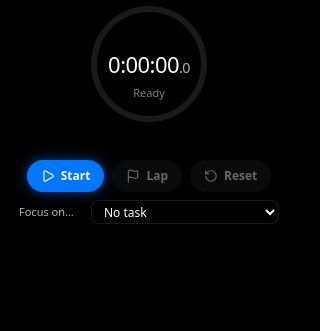
Test: StopwatchTool › Lap adds a row with its split and total, newest first
Click the button "Start" at (66, 176), box left=27, top=160, right=104, bottom=192
Wait 1500 ms
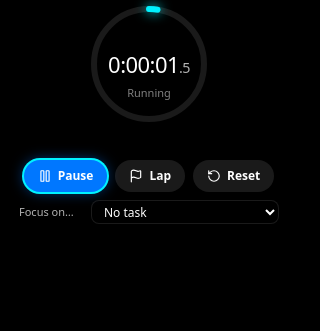
Click the button "Lap" at (150, 176), box left=115, top=160, right=185, bottom=192
Wait 2000 ms
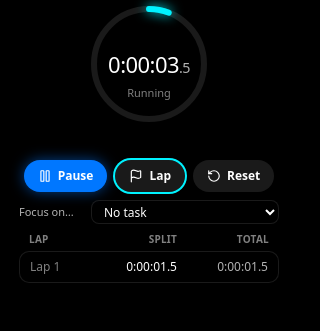
Click the button "Lap" at (150, 176), box left=115, top=160, right=185, bottom=192
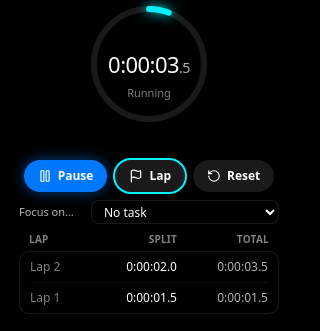
expect the list item with aria-label "Lap 2: split 0:00:02.0, total 0:00:03.5" is shown: met, box left=30, top=252, right=268, bottom=283
